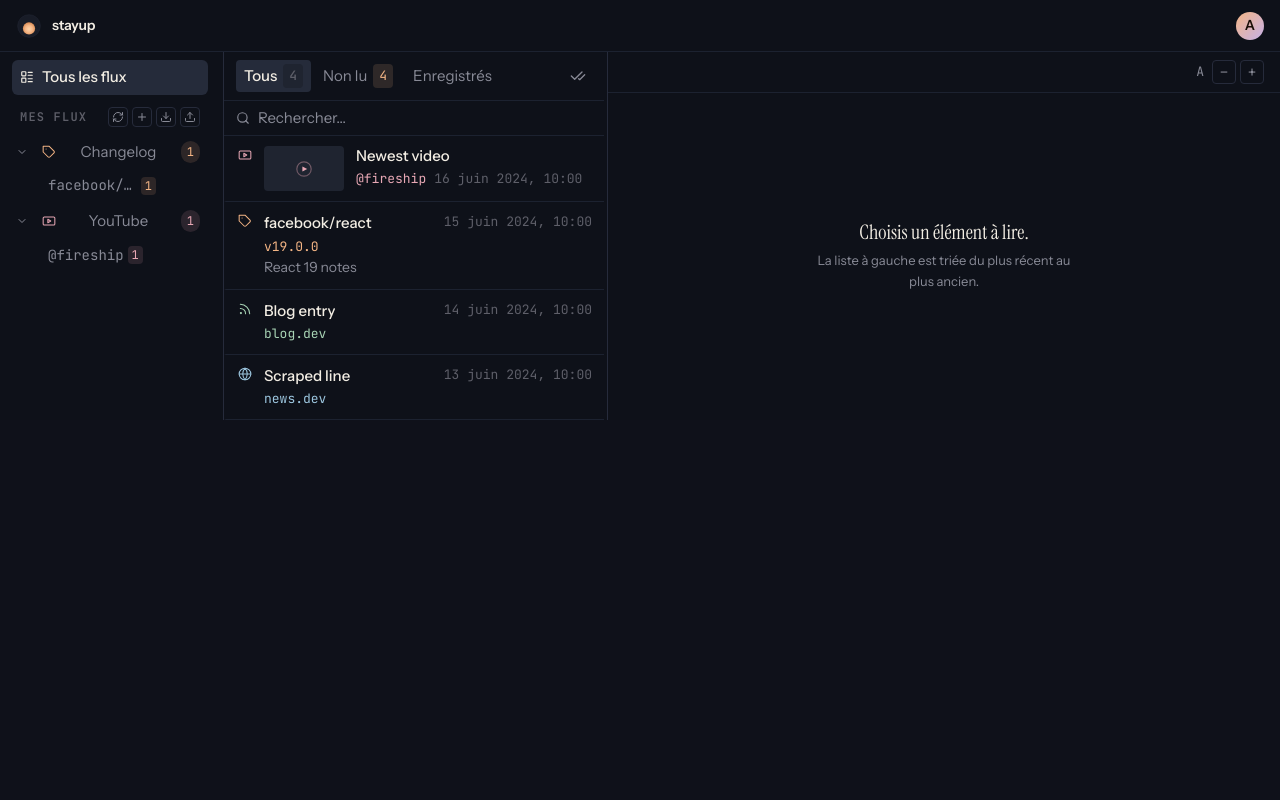
it: header › opens and closes the profile modal from the user menu
Click the button titled "Alice" at (1250, 26), box [1236,12,1264,40]
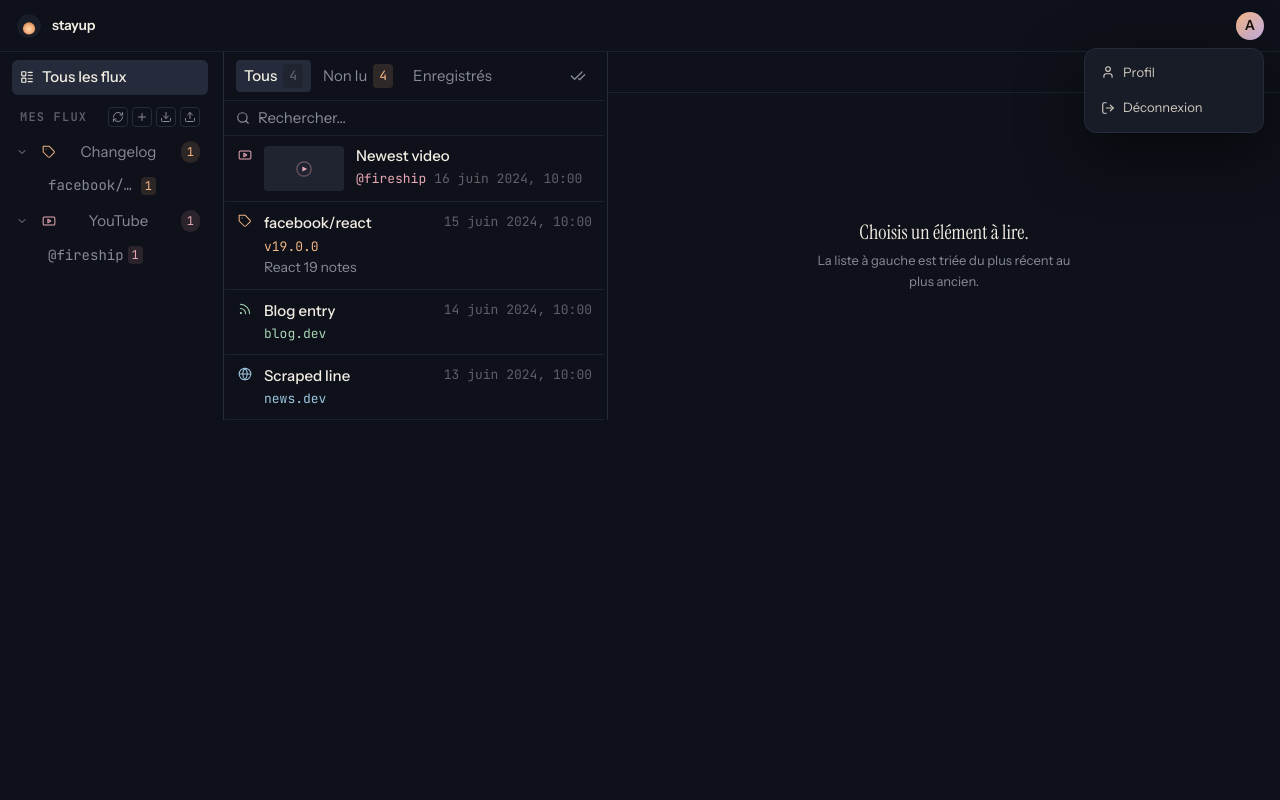
Click the button "Profil" at (1174, 72), box [1091,54,1257,90]
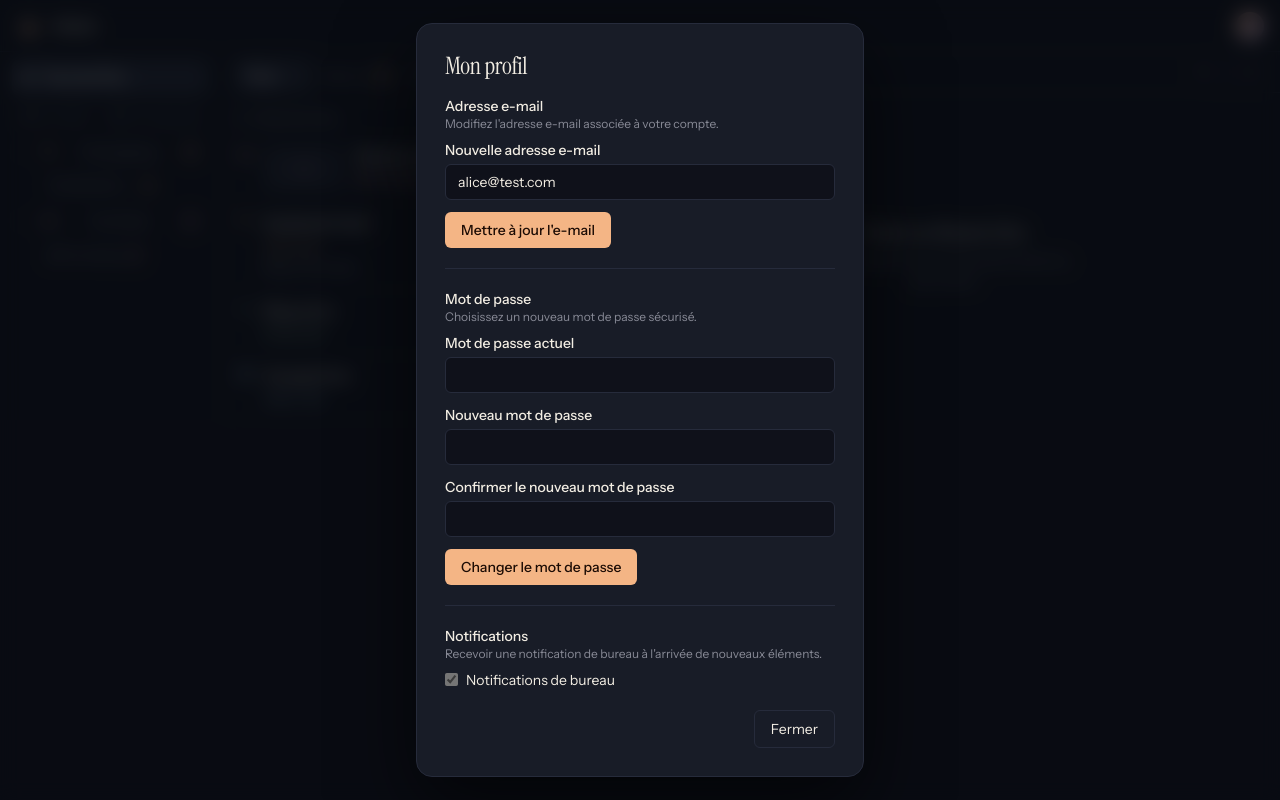
Check: the heading "Mon profil" is shown, box [445,50,527,81]
Click the button "Fermer" at (794, 729), box [754,710,835,748]
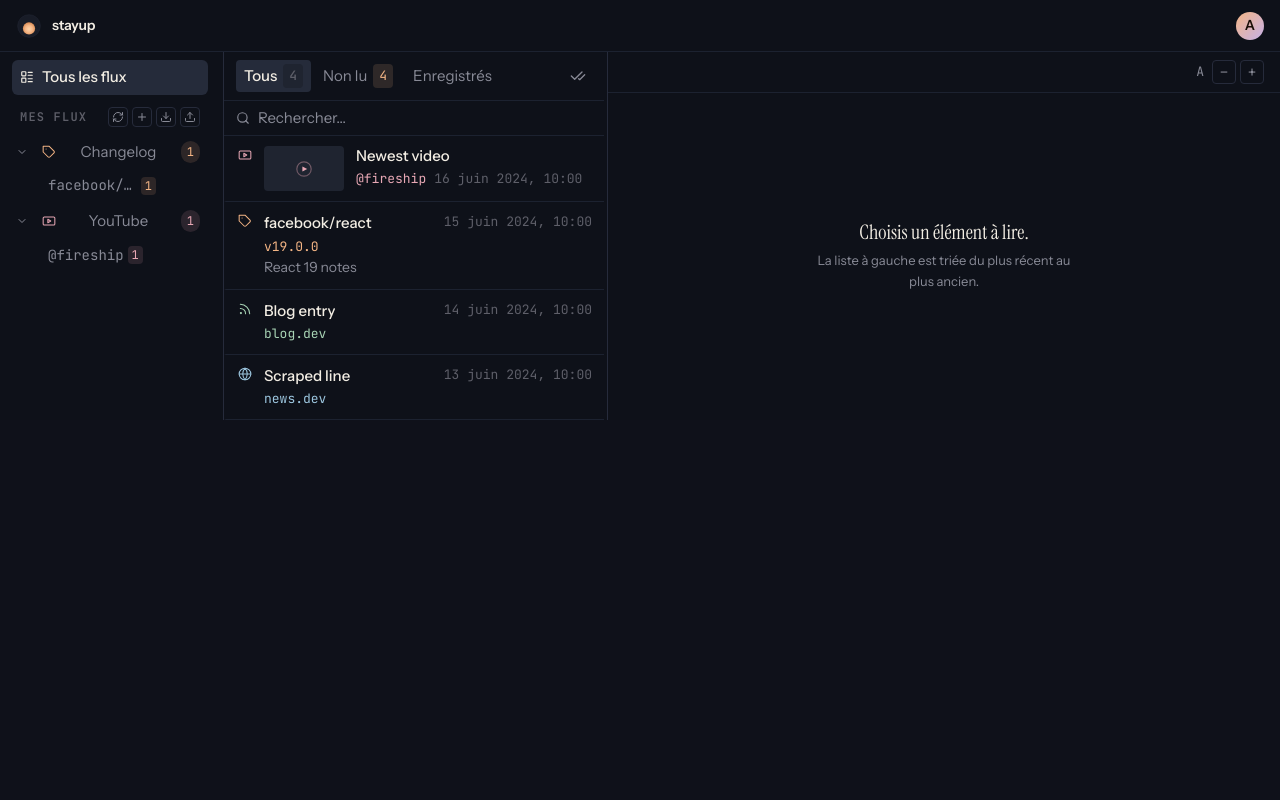
Check: the heading "Mon profil" is gone
